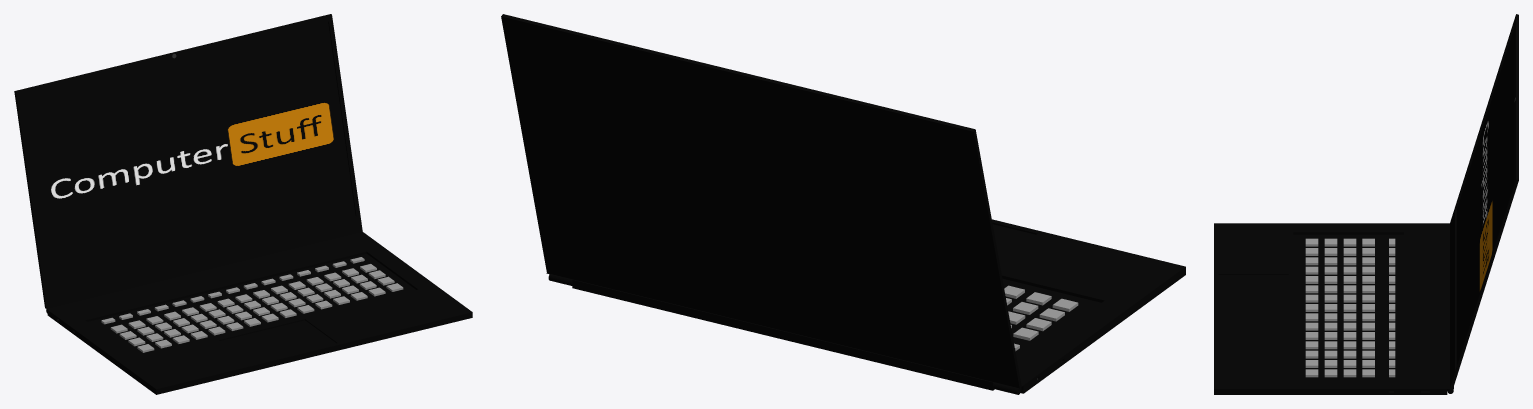
File: laptop.glb
3 renders of one model, left to right at view 1: azimuth 30°, elevation 25°; view 2: azimuth 150°, elevation 25°; view 3: azimuth 270°, elevation 25°, orthographic. The views are drawn at different scales.
Parts seen in each view (by area): view 1: Cube_0, Cube.001_1, Cube.003_6, Cube.002_5; view 2: Cube_0, Cube.001_1, Cube.003_6; view 3: Cube.001_1, Cube_0, Cube.003_6, Cube.002_5.
Part boxes in pixels (x1,y1,x2,y2): Cube_0: (14, 14, 362, 308); Cube.001_1: (46, 231, 472, 394); Cube.003_6: (110, 264, 403, 352); Cube.002_5: (101, 257, 364, 324); Cube_0: (501, 14, 1021, 388); Cube.001_1: (546, 219, 1185, 393); Cube.003_6: (1004, 285, 1078, 340); Cube.001_1: (1214, 223, 1453, 394); Cube_0: (1450, 14, 1518, 389); Cube.003_6: (1305, 238, 1374, 377); Cube.002_5: (1389, 238, 1395, 377).
Size of the model in its own units: 3.28 by 1.99 by 2.55.
Materials: 5 (1 with a texture image).
